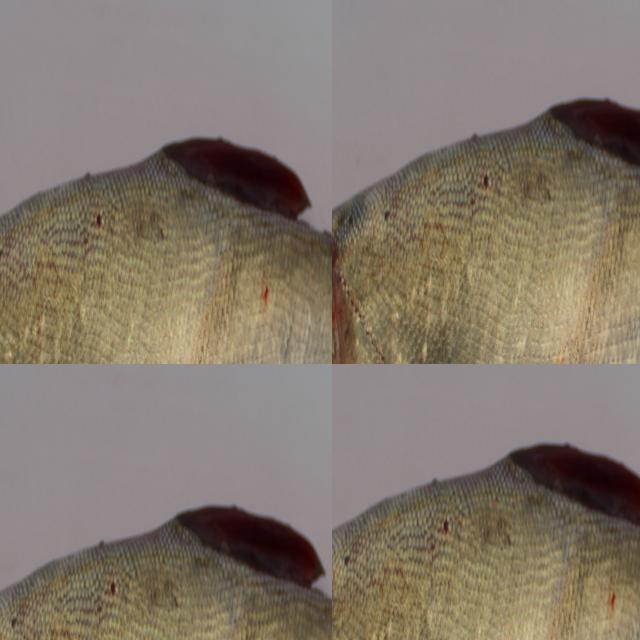fish: (332, 422, 640, 640), (0, 364, 126, 558)
